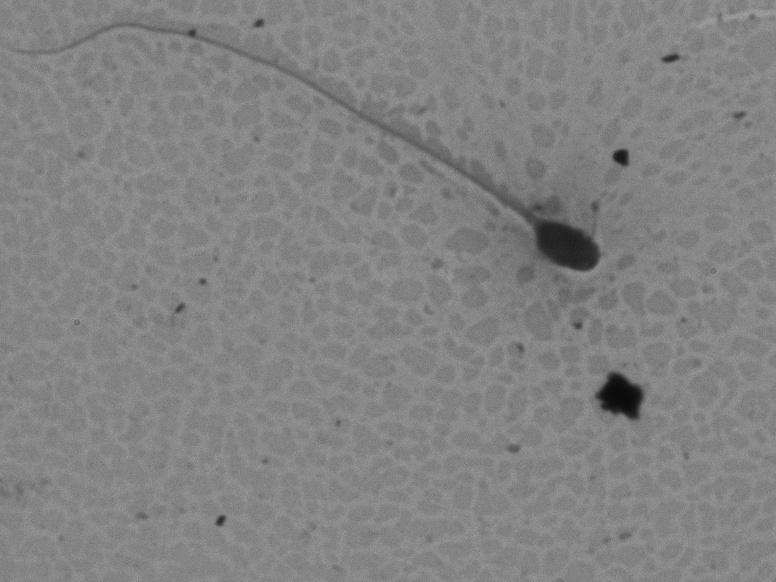Normal: (16, 13, 627, 287)
